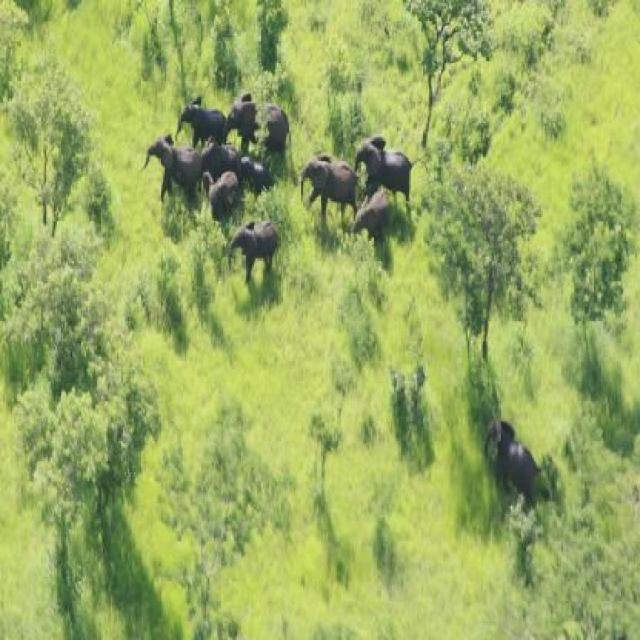elephant: (468, 403, 552, 519), (221, 74, 290, 158), (300, 142, 366, 221), (142, 126, 202, 200), (223, 228, 291, 282), (182, 88, 236, 155), (356, 130, 418, 184), (354, 194, 394, 258), (206, 176, 240, 213), (240, 149, 268, 189)
